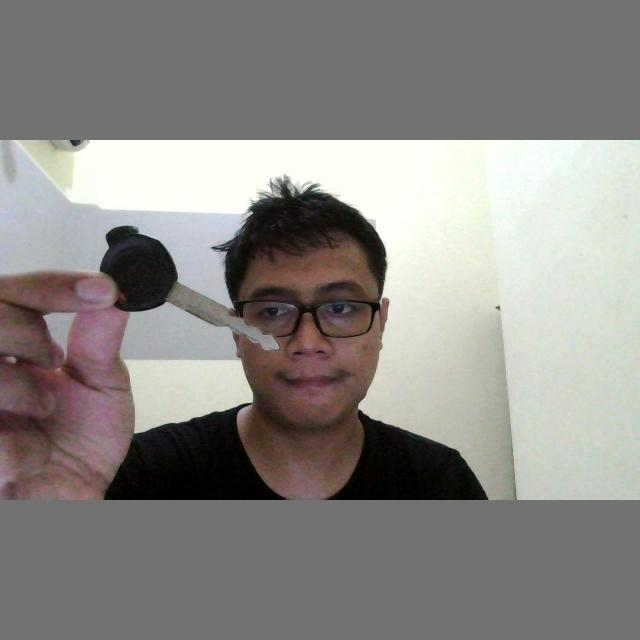Keys: (91, 220, 285, 360)
